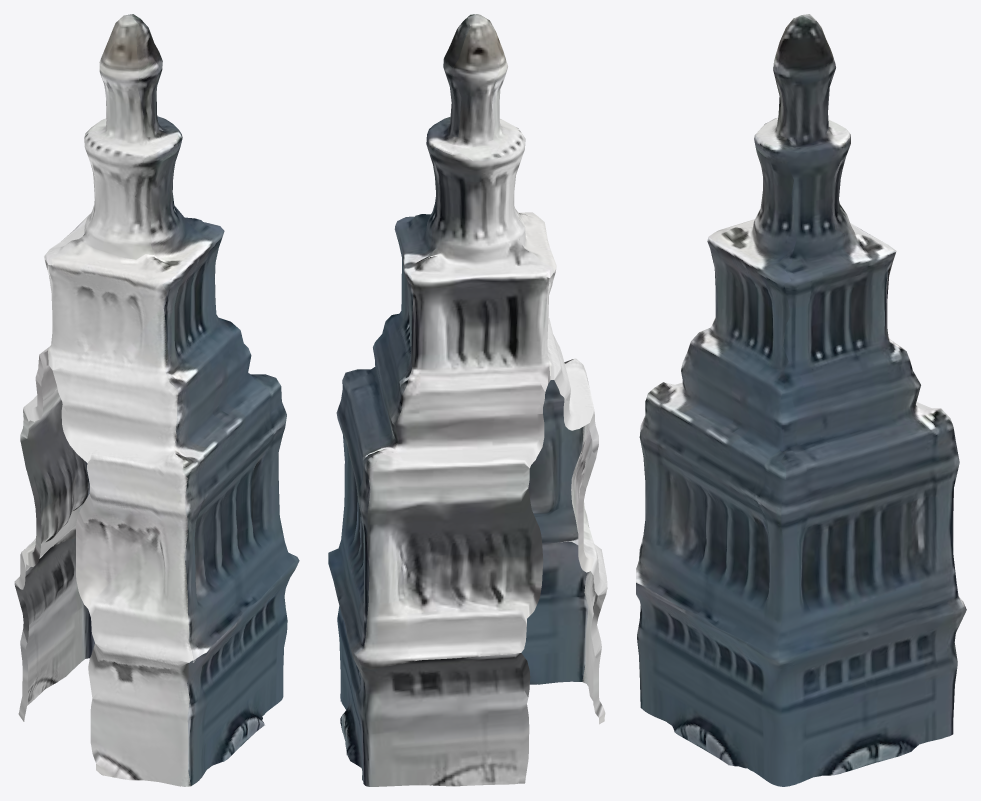
The model's file is z20-167790-405220-h1-yup-uvflip-v3-world.glb.
3 views of the same model, side by side, from view 1: azimuth 30°, elevation 25°; view 2: azimuth 150°, elevation 25°; view 3: azimuth 270°, elevation 25° (orthographic). The views are drawn at different scales.
Size of the model in its own units: 11.72 by 34.16 by 14.48.
1 material, 1 textured.
